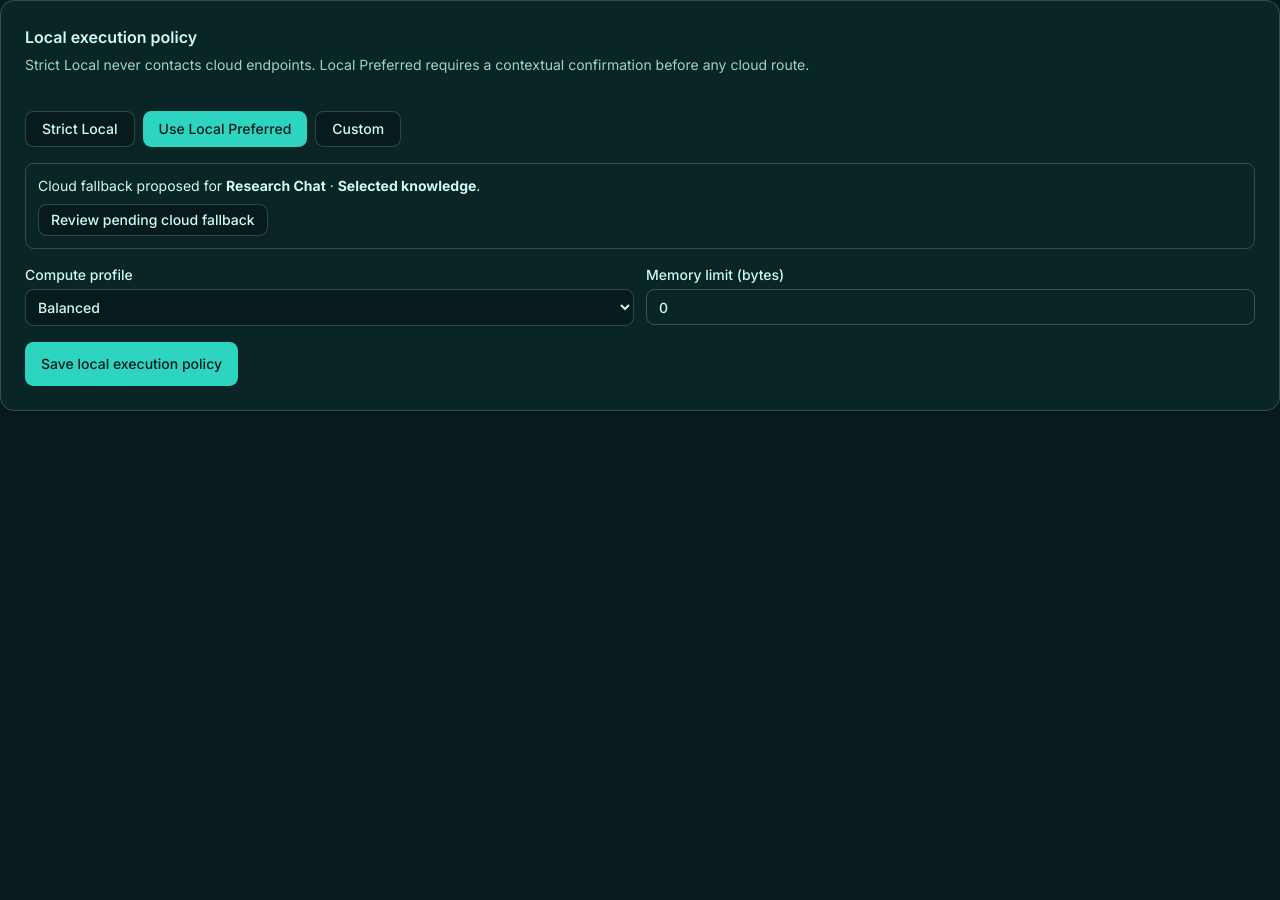
Test: LocalExecutionPolicyPanel › clears valid cancelled entries before the pending route dialog is reopened
The image size is (1280, 900).
Click the button "Review pending cloud fallback". click: coordinates (153, 220)
box: [38, 204, 268, 236]
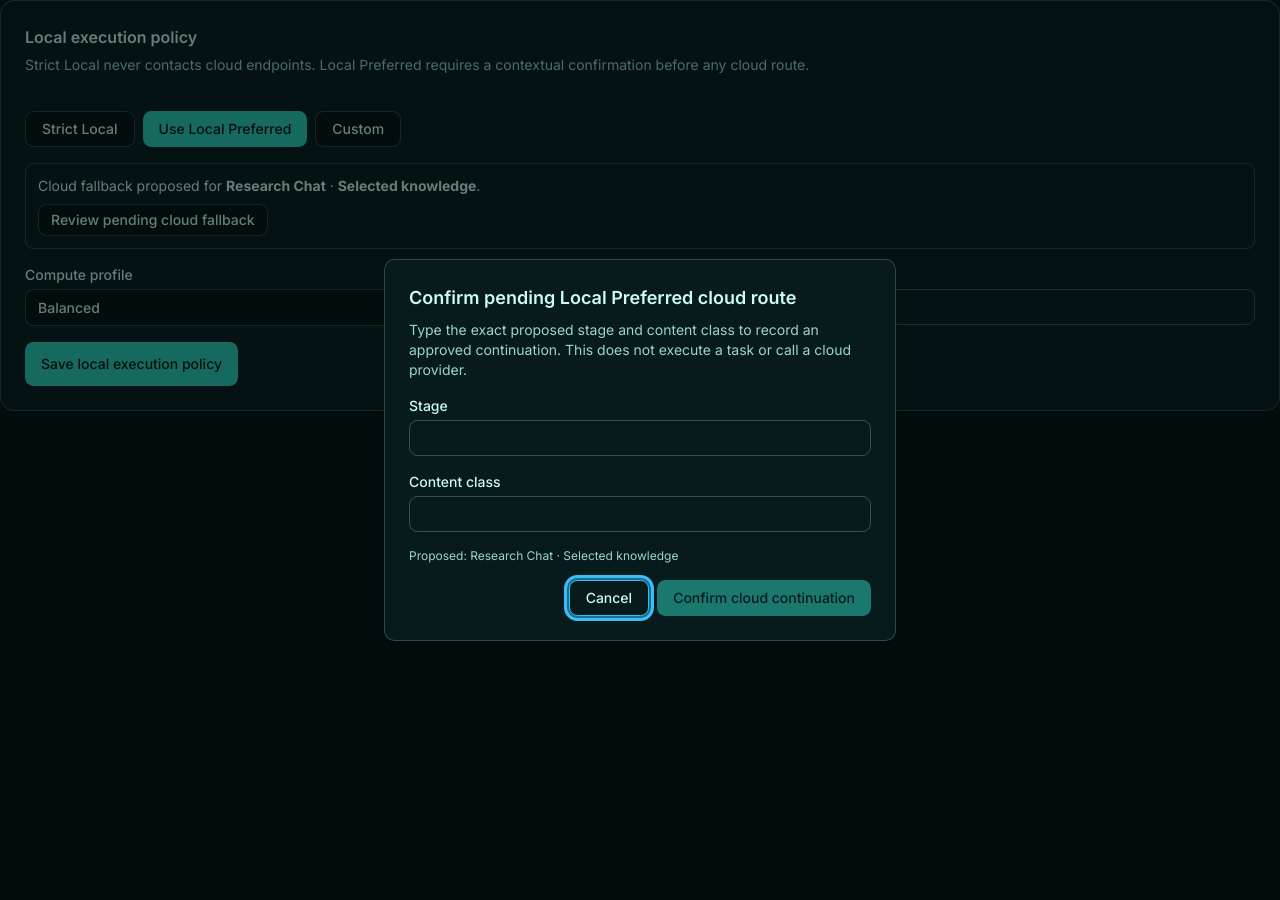
Type "Research Chat" into the field labelled "Stage". click: coordinates (640, 438)
box: [409, 420, 871, 456]
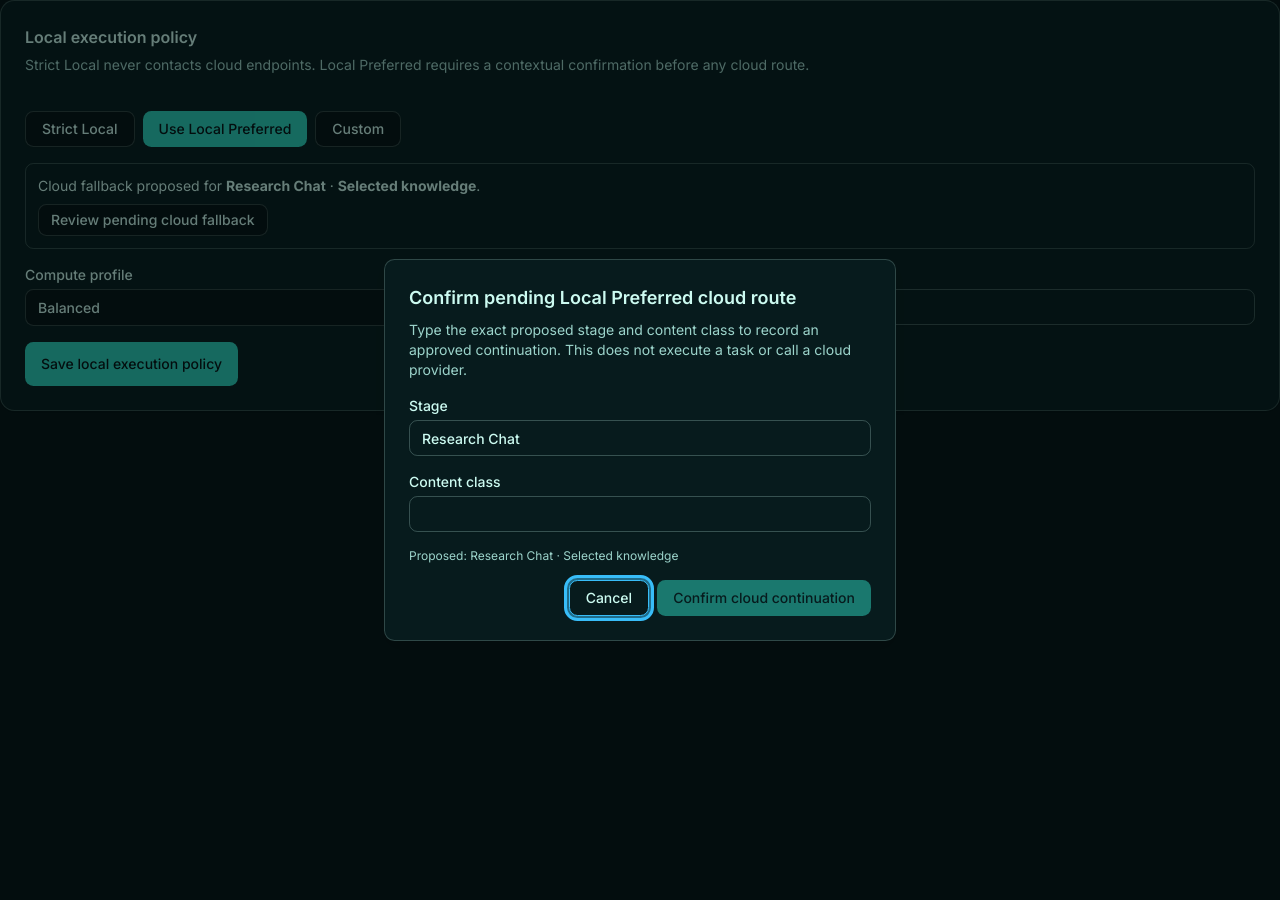
Type "Selected knowledge" into the field labelled "Content class". click: coordinates (640, 514)
box: [409, 496, 871, 532]
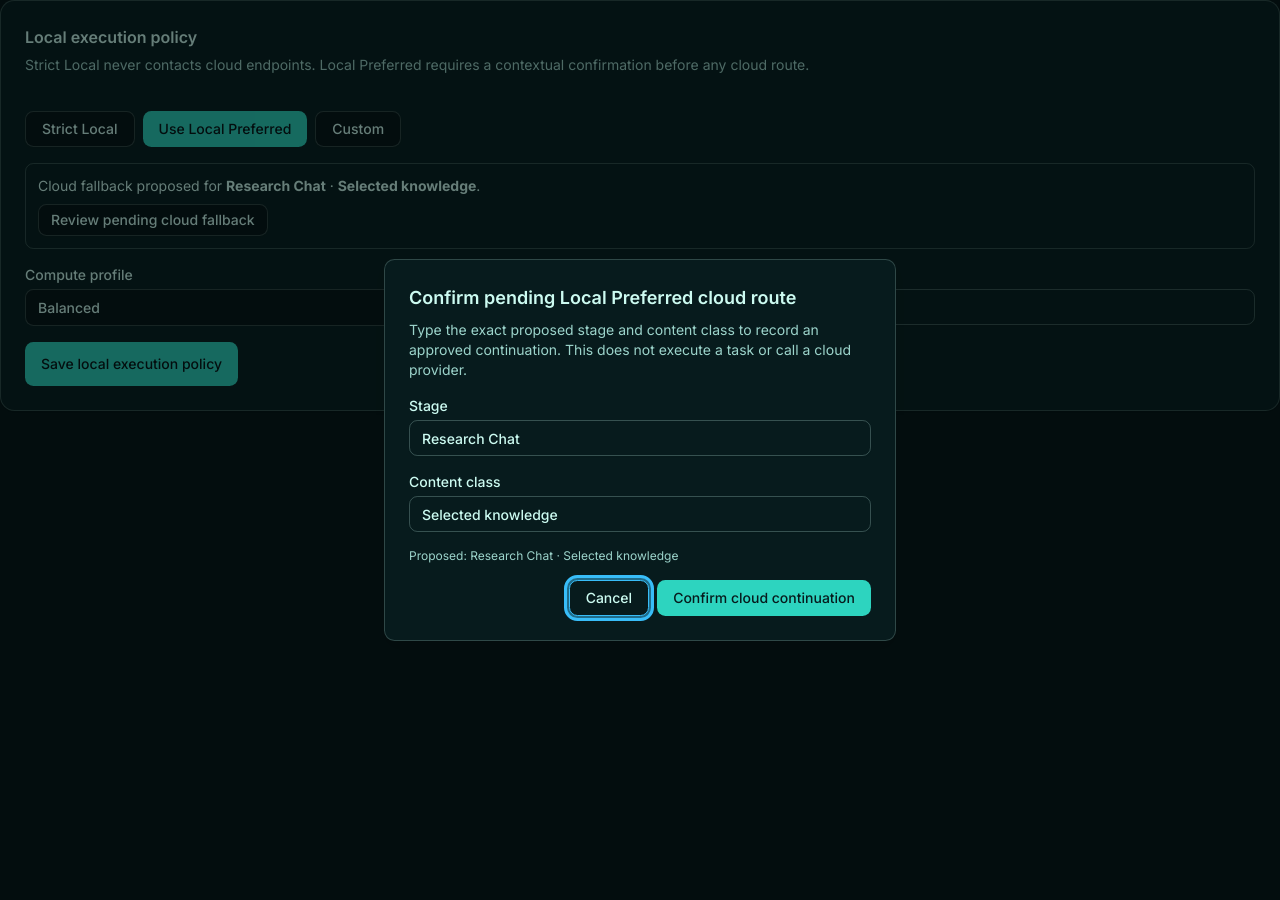
Now the button "Confirm cloud continuation" is enabled, box [657, 580, 871, 616]
Click the button "Cancel". click: coordinates (609, 598)
box: [569, 580, 649, 616]
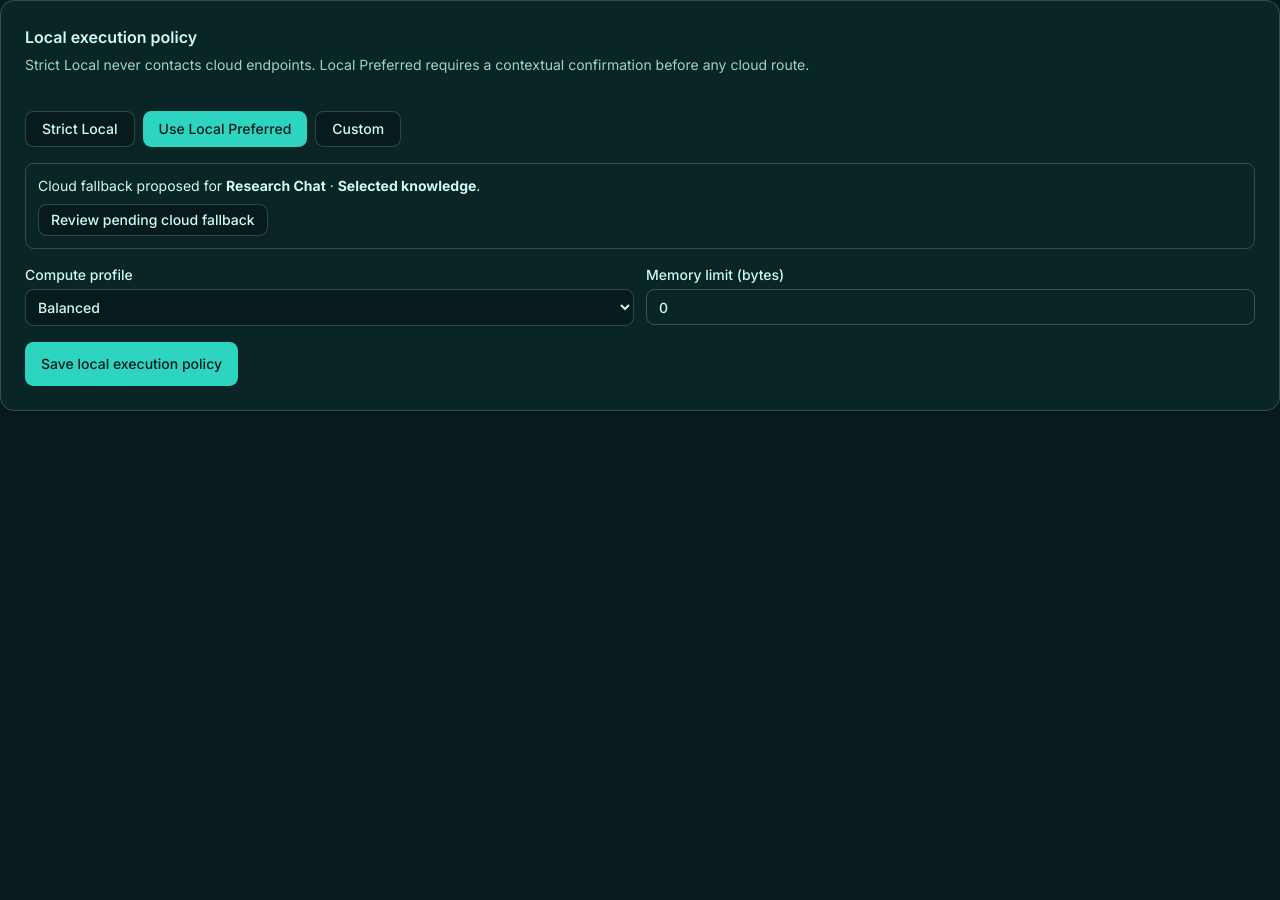
Click the button "Review pending cloud fallback". click: coordinates (153, 220)
box: [38, 204, 268, 236]
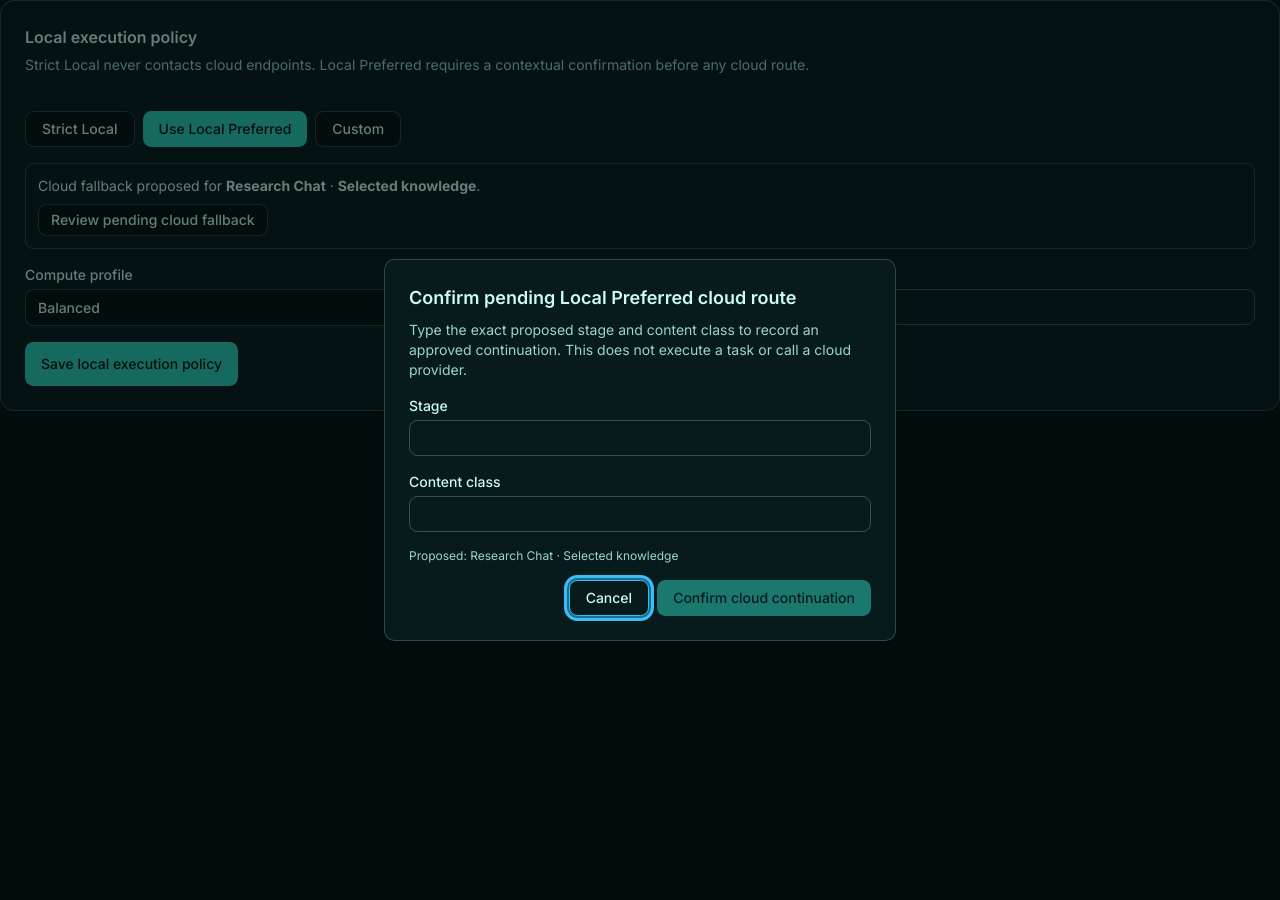
Expected: the field labelled "Stage" is empty, [409, 420, 871, 456]
Now the button "Confirm cloud continuation" is disabled, box [657, 580, 871, 616]
